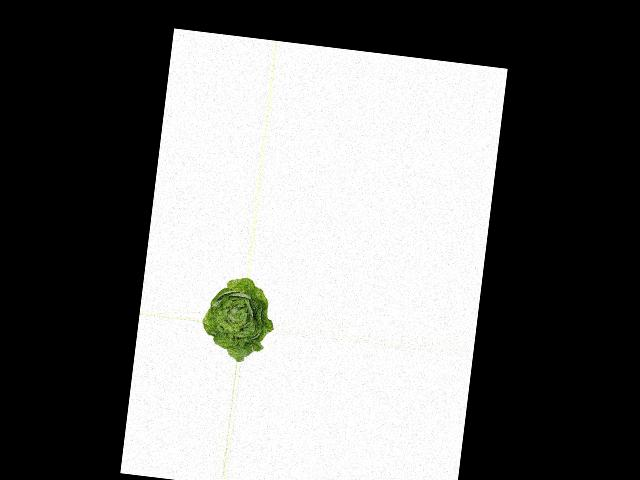lettuce: (199, 272, 279, 363)
